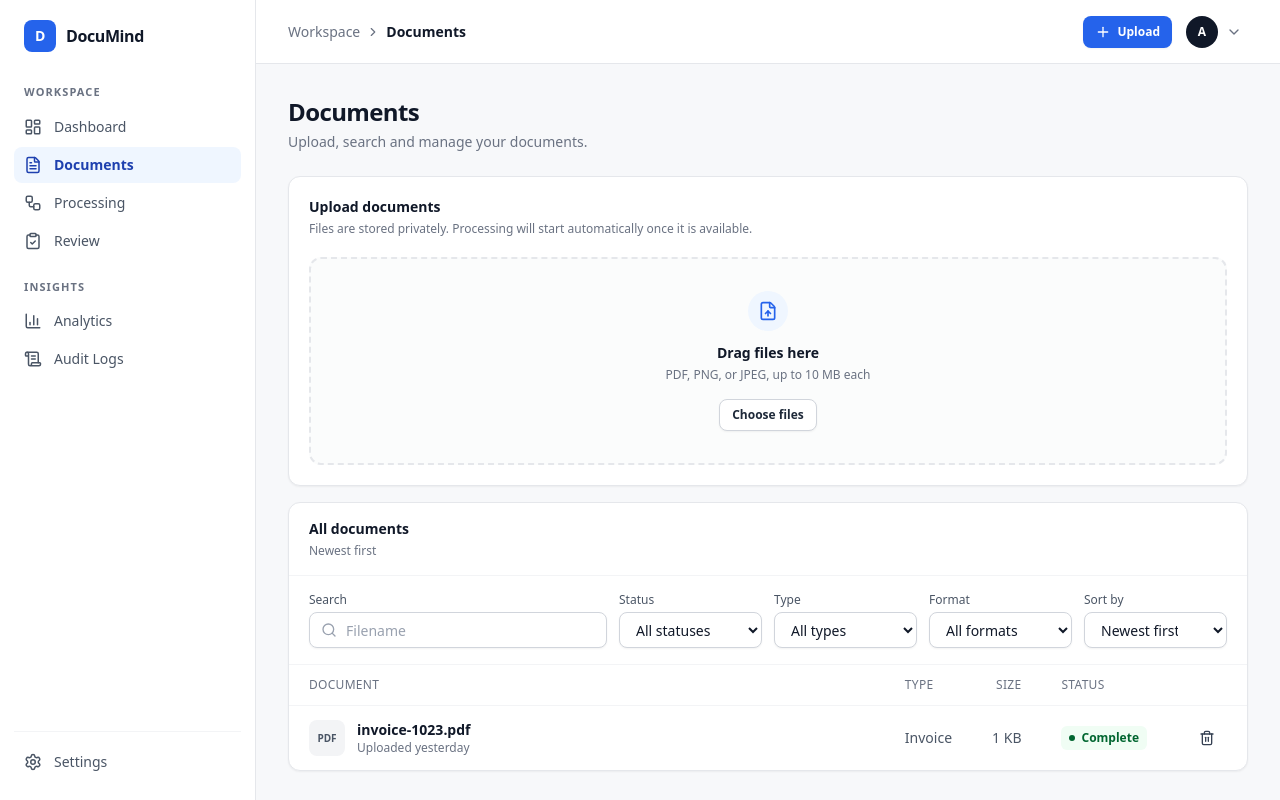
Test case: DocumentsPage › delete › asks for confirmation, then deletes and removes the row
The image size is (1280, 800).
expect the heading "Documents" is shown: met, box [288,95,419,128]
What coordinates should you click on to do the following:
click the button named "Delete invoice-1023.pdf"
I would click on:
 (1207, 738)
Its box is [1187,722,1227,754].
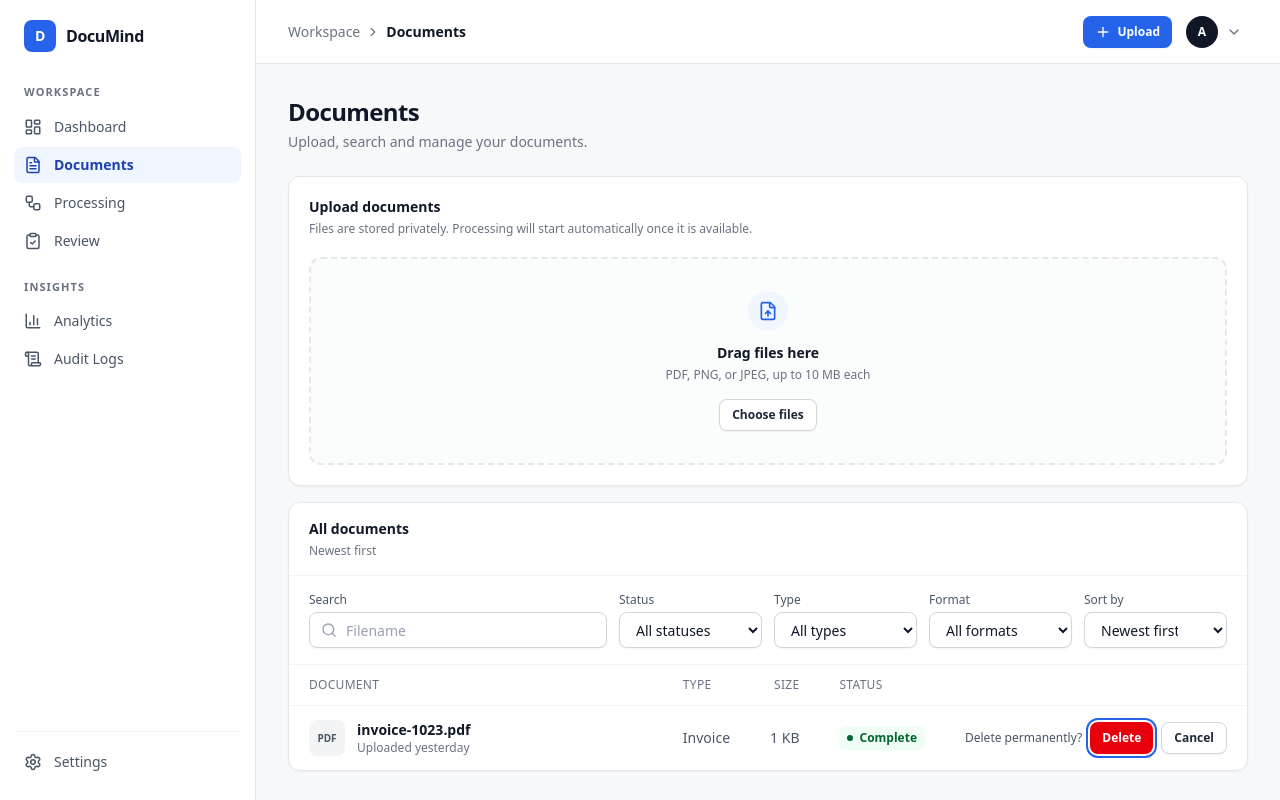
What coordinates should you click on to do the following:
click the button with aria-label "Confirm deleting invoice-1023.pdf"
I would click on:
 (1122, 738)
Its box is [1090,722,1153,754].
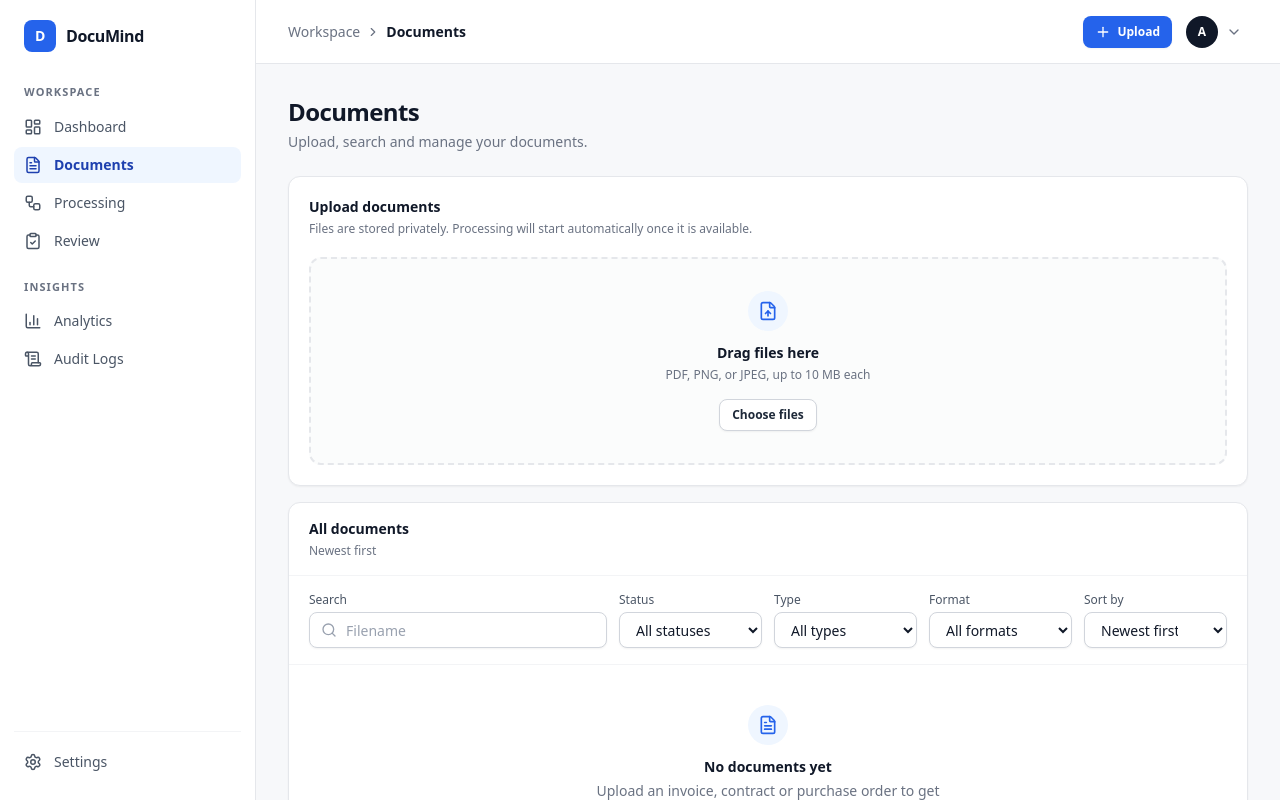
expect the text "No documents yet" is shown: met, box [704,757,832,777]
